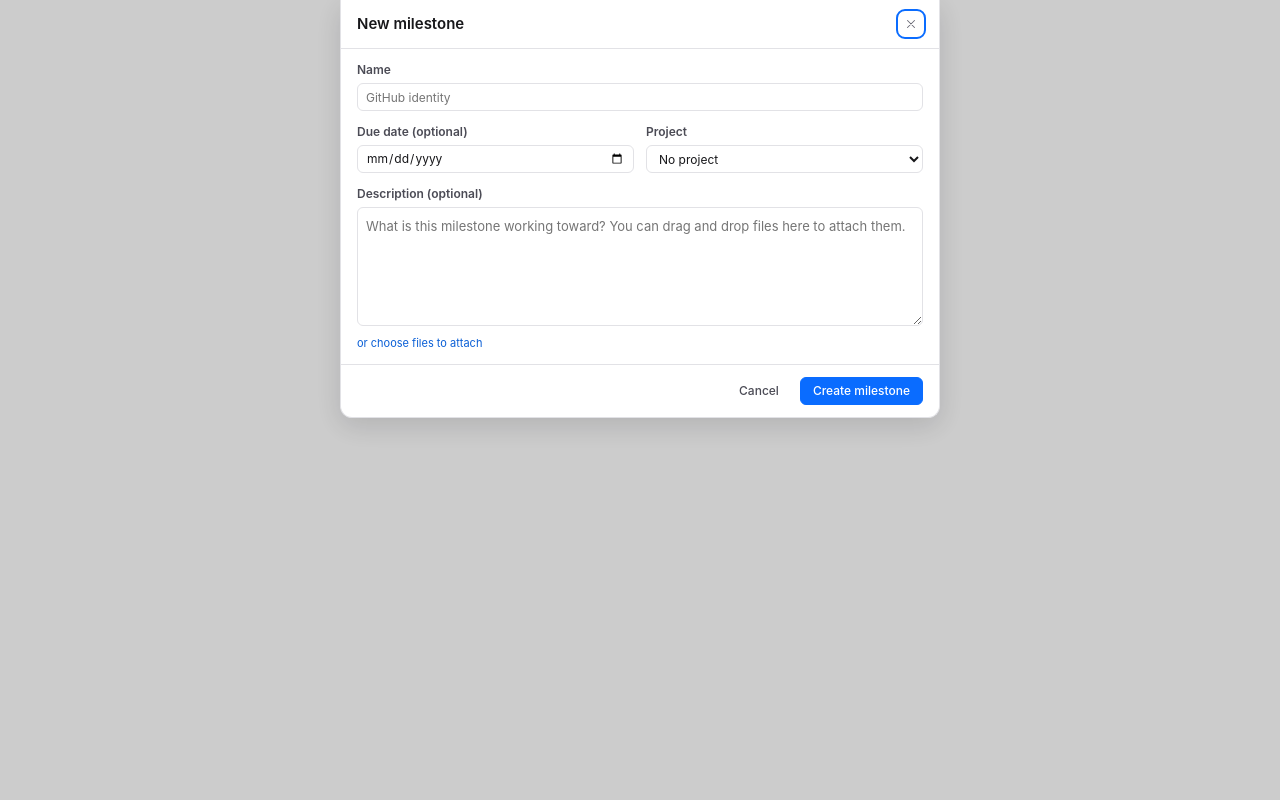
NewMilestoneDialog › shows the server's error and keeps the sheet open when creating fails
Type "Beta launch" into the field labelled "Name" at (640, 97), box [357,83,923,111]
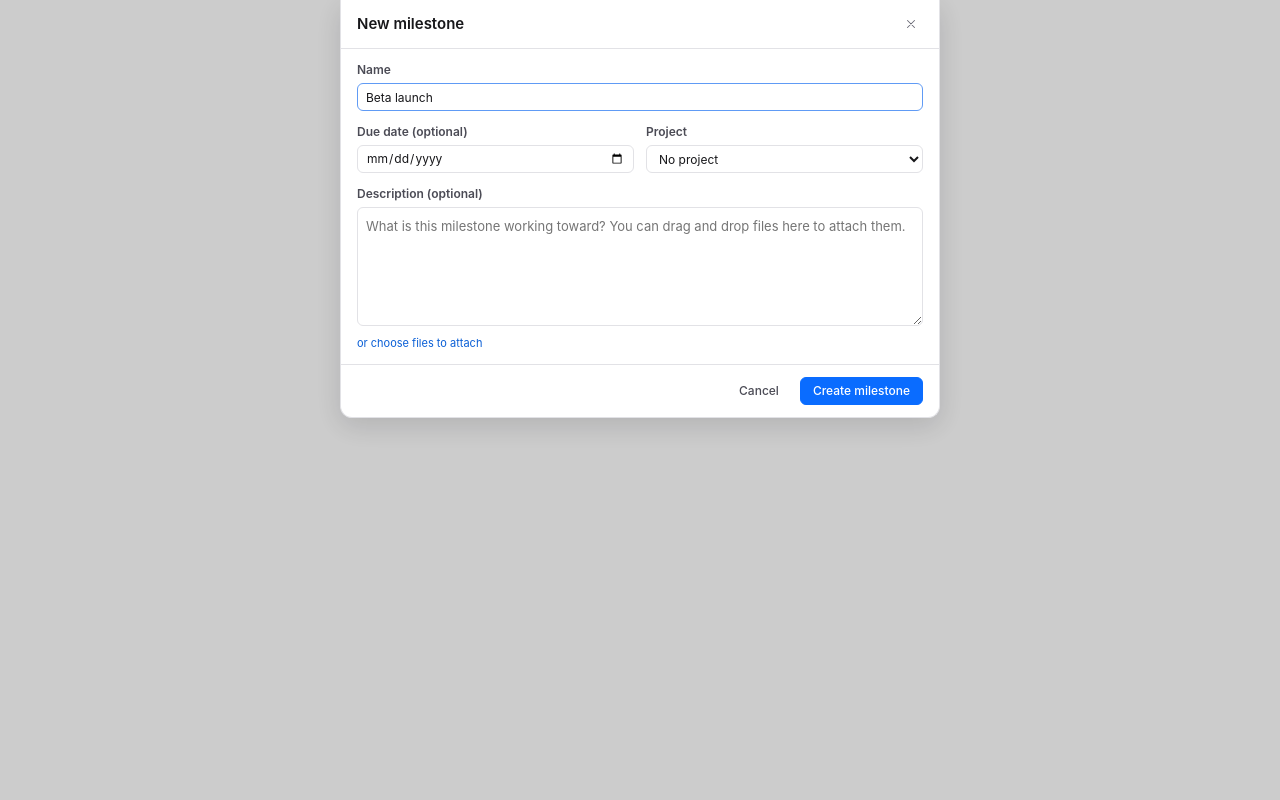
Click the button "Create milestone" at (861, 391), box [800,377,923,405]
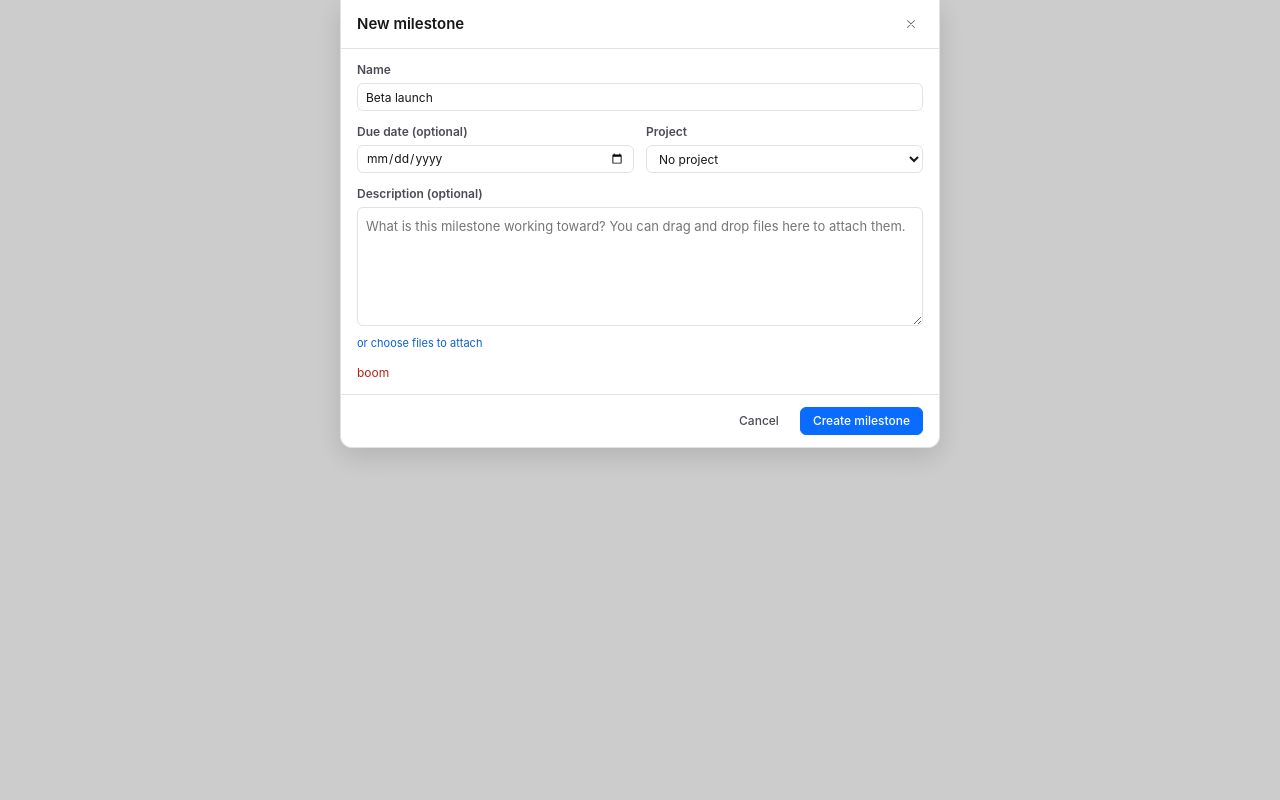
Result: the message reads "boom" at [357,365,389,380]
